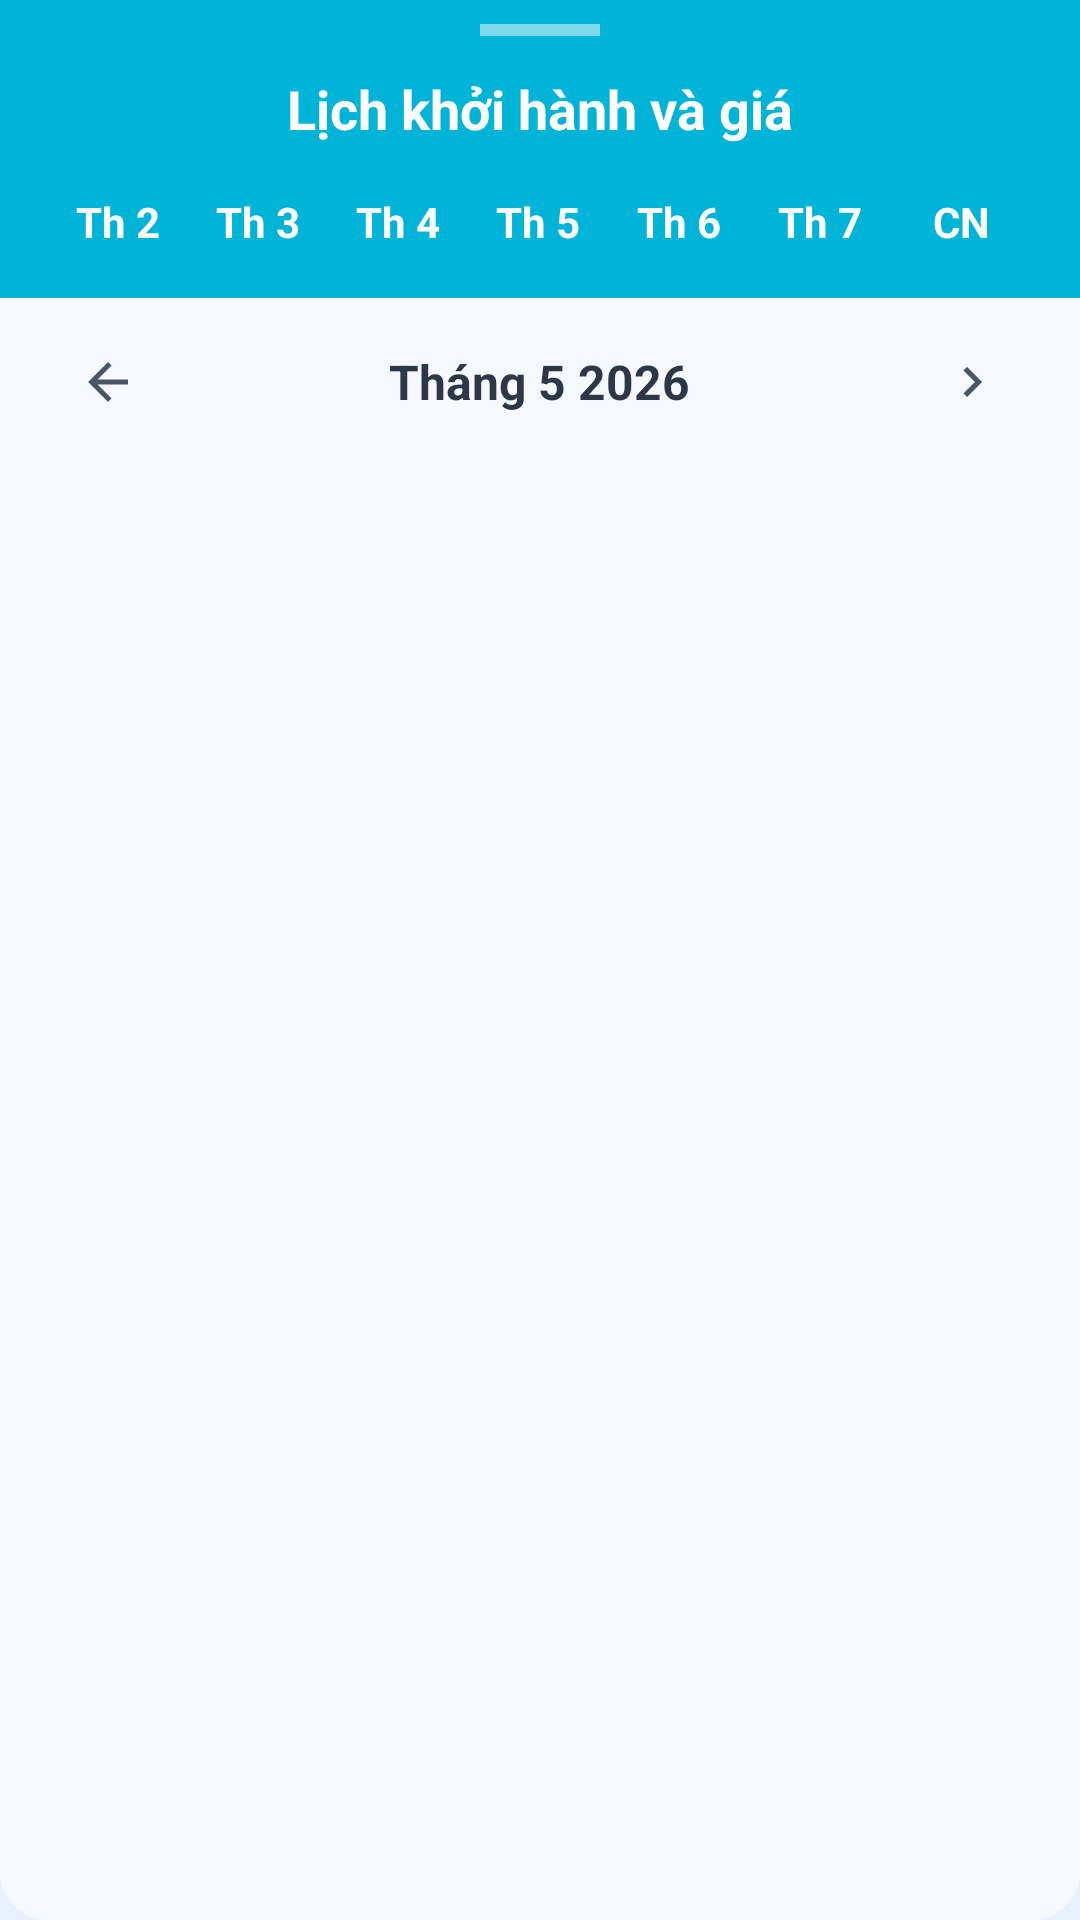

Locate icon controls on the screen. Image size 1080 x 1920, boxes as (x1, y1, x2, y2).
back: (88, 362, 128, 402)
chevron right: (963, 367, 982, 397)
